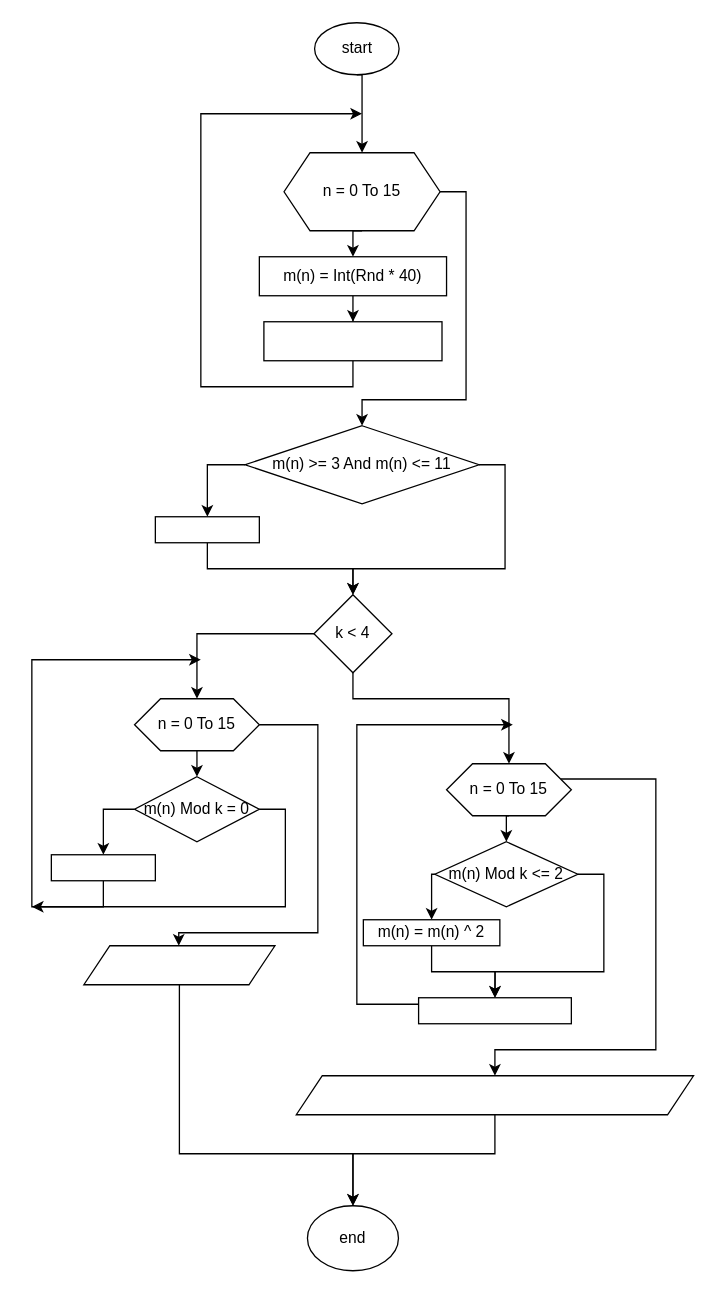
Some shapes in this 716 by 1294 pixel diagram are drawn without their labels. Here are the shapes that lost their labels. From the top down, the box of each, then its label:
(263, 320, 442, 361): s = s & m(n) & " "
(154, 515, 259, 543): k = k + 1
(50, 853, 155, 881): a = a + m(n)
(83, 944, 275, 985): s & vbNewLine & a
(417, 996, 571, 1024): s1 = s1 & m(n) & " "
(295, 1074, 694, 1115): "k = " & k & vbNewLine & s & vbNewLine & s1
